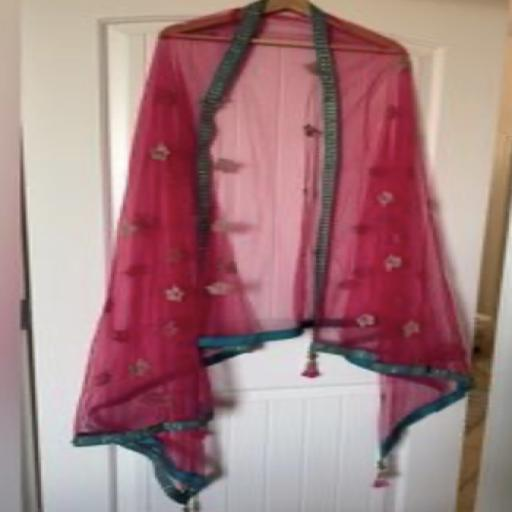Dupatta: (62, 0, 476, 507)
